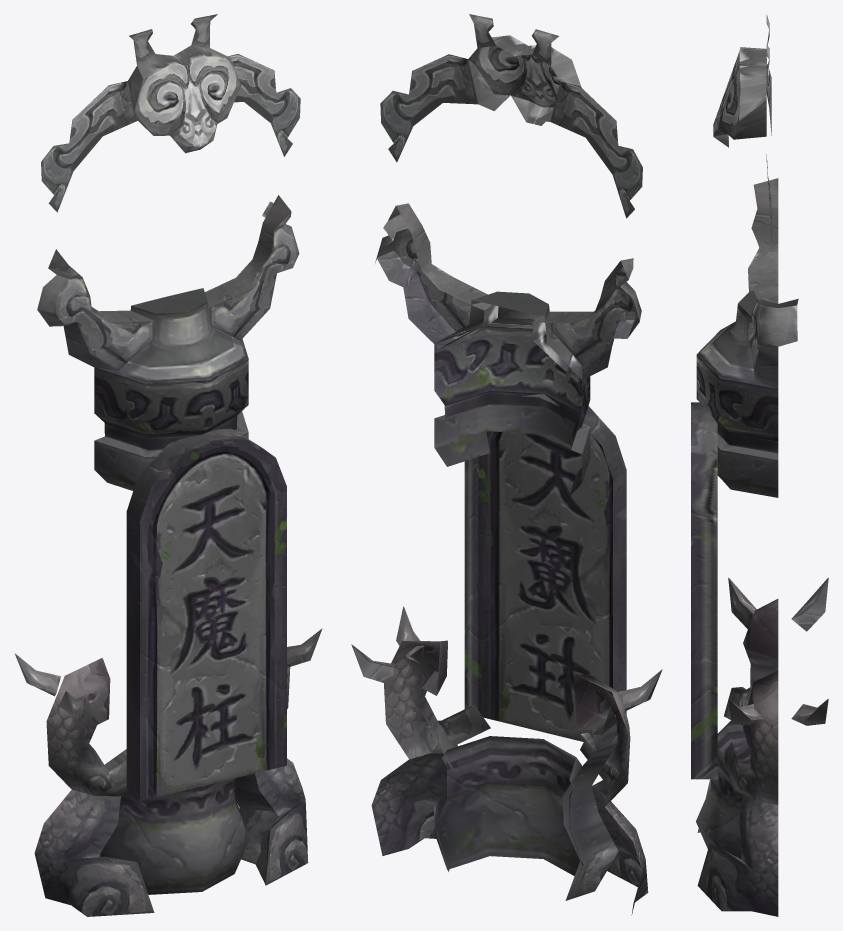
File: zjm_tianmozhu.FBX
3 renders of one model, left to right at view 1: azimuth 30°, elevation 25°; view 2: azimuth 150°, elevation 25°; view 3: azimuth 270°, elevation 25°, orthographic. The views are drawn at different scales.
Parts seen in each view (by area): view 1: sm_tree_01; view 2: sm_tree_01; view 3: sm_tree_01.
Boxes of the visible parts, left/top/right/bottom form: sm_tree_01: left=14, top=14, right=322, bottom=916; sm_tree_01: left=351, top=14, right=662, bottom=915; sm_tree_01: left=691, top=14, right=828, bottom=916.
Bounding box in the file's own units: 2845 × 1305 × 8622.
